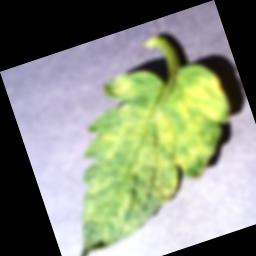Leaf_Mold: (34, 57, 256, 255), (103, 70, 142, 104)
